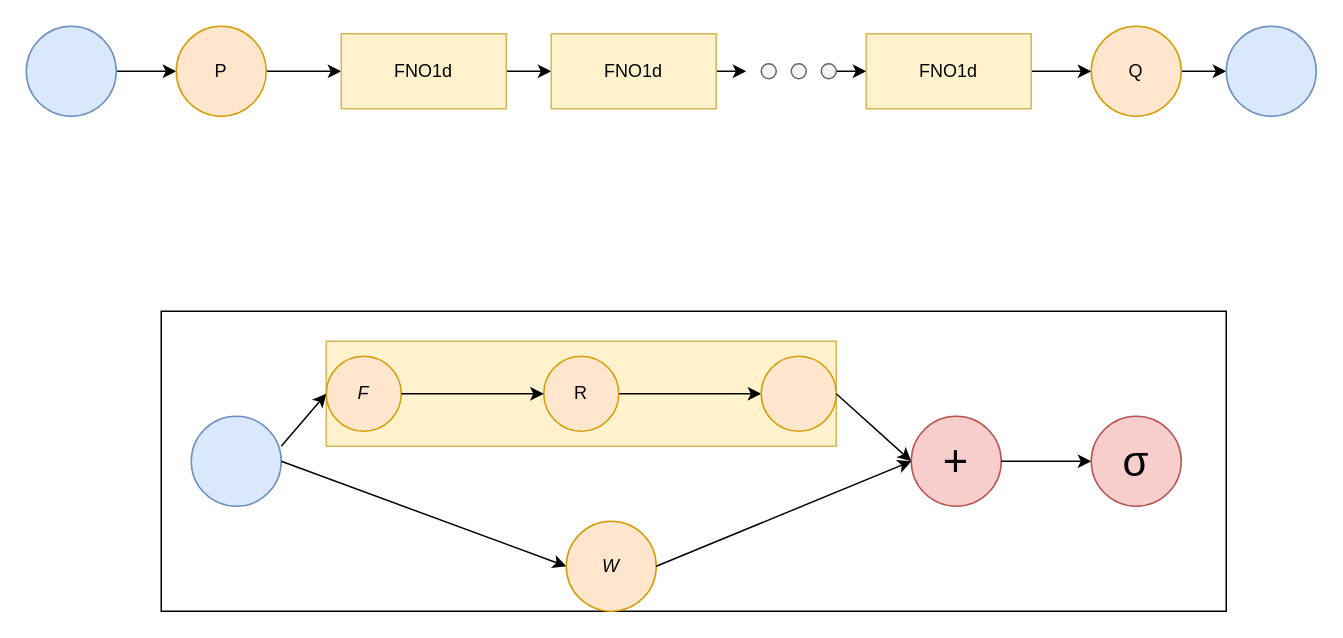
Some shapes in this 1343 by 638 pixel diagram are drawn without their labels. Each missing label, with the centre of its shape:
a(x,0): pixel 70 70
F -1: pixel 798 393
u(x,t): pixel 1270 70
v(x): pixel 235 460
